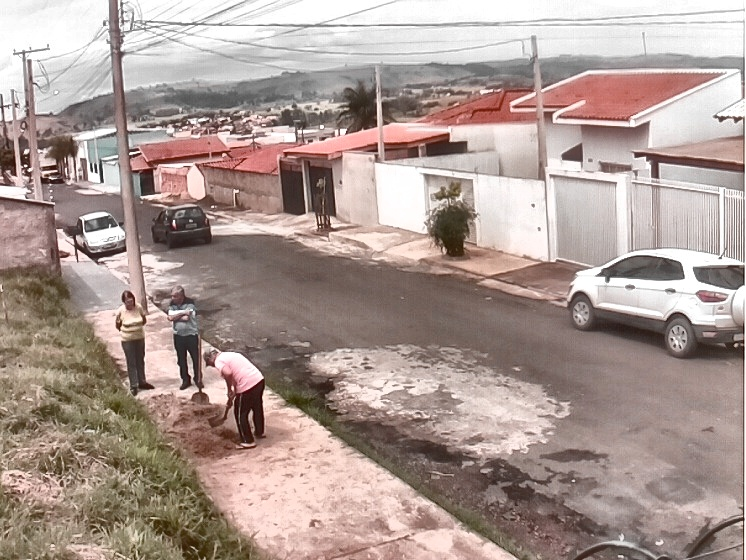person: (202, 347, 268, 449), (166, 286, 209, 391), (114, 290, 154, 396)
